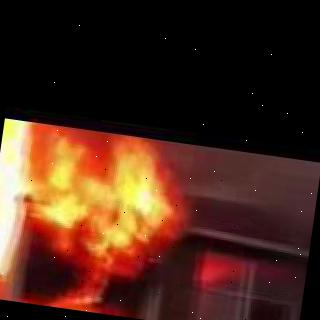fire: (0, 118, 198, 320)
